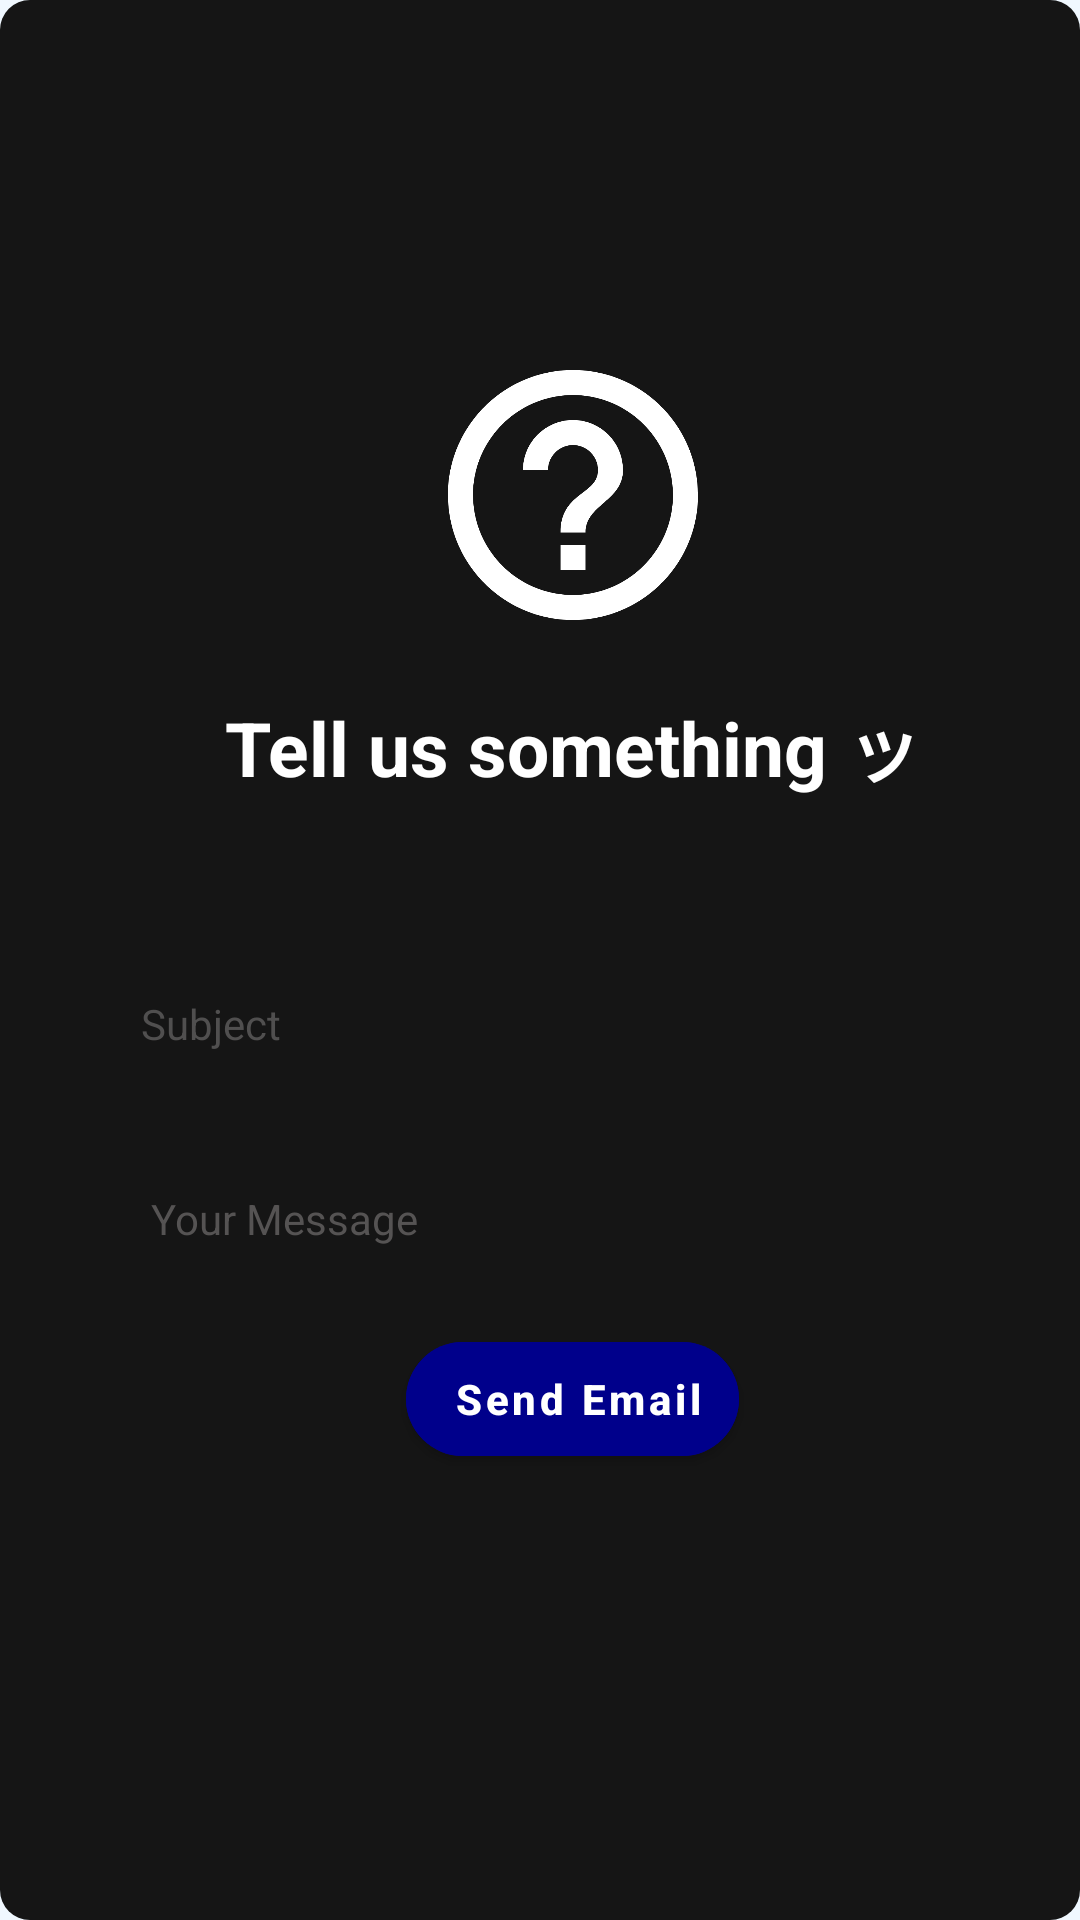

Icons on this 1080 x 1920 Android screen, each with its box as (x1, y1, x2, y2):
help: (448, 370, 698, 620)
